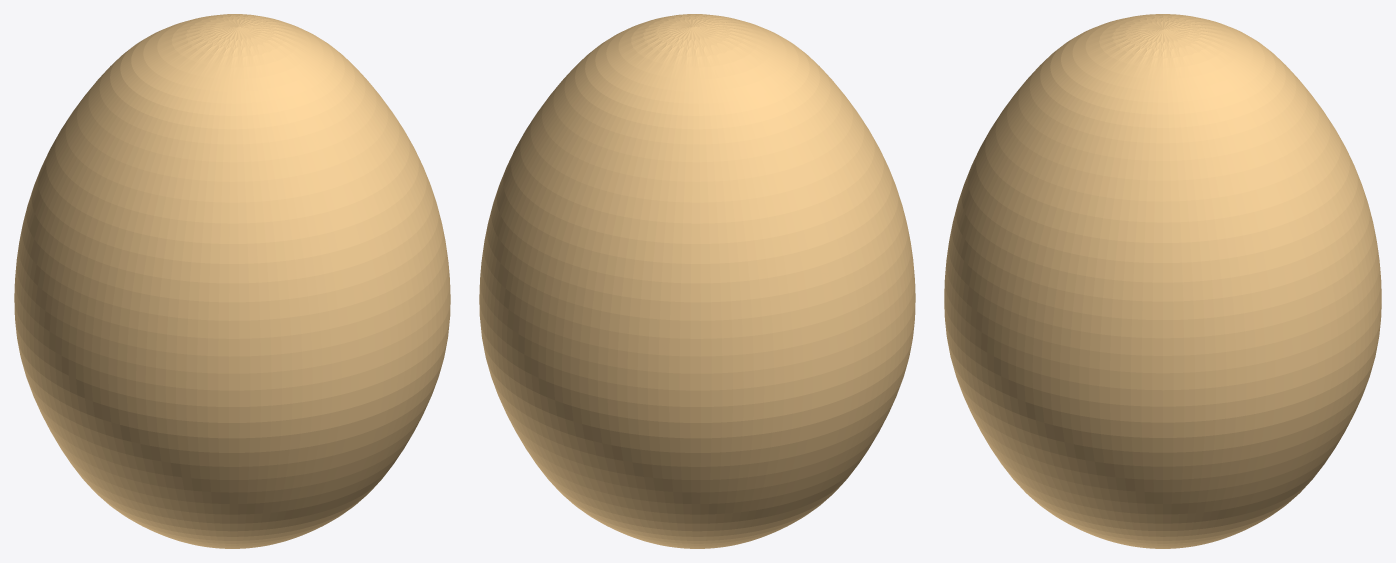
Rendered from boiled_egg_1.glb.
3 renders of one model, left to right at view 1: azimuth 30°, elevation 25°; view 2: azimuth 150°, elevation 25°; view 3: azimuth 270°, elevation 25°, orthographic.
Visible parts, largest first — view 1: Cylinder_Material.001_0; view 2: Cylinder_Material.001_0; view 3: Cylinder_Material.001_0.
Part boxes in pixels (<box>): Cylinder_Material.001_0: <box>14,14,450,548</box>; Cylinder_Material.001_0: <box>479,14,915,548</box>; Cylinder_Material.001_0: <box>944,14,1381,548</box>.
Size of the model in its own units: 9.5 by 12.07 by 9.5.
